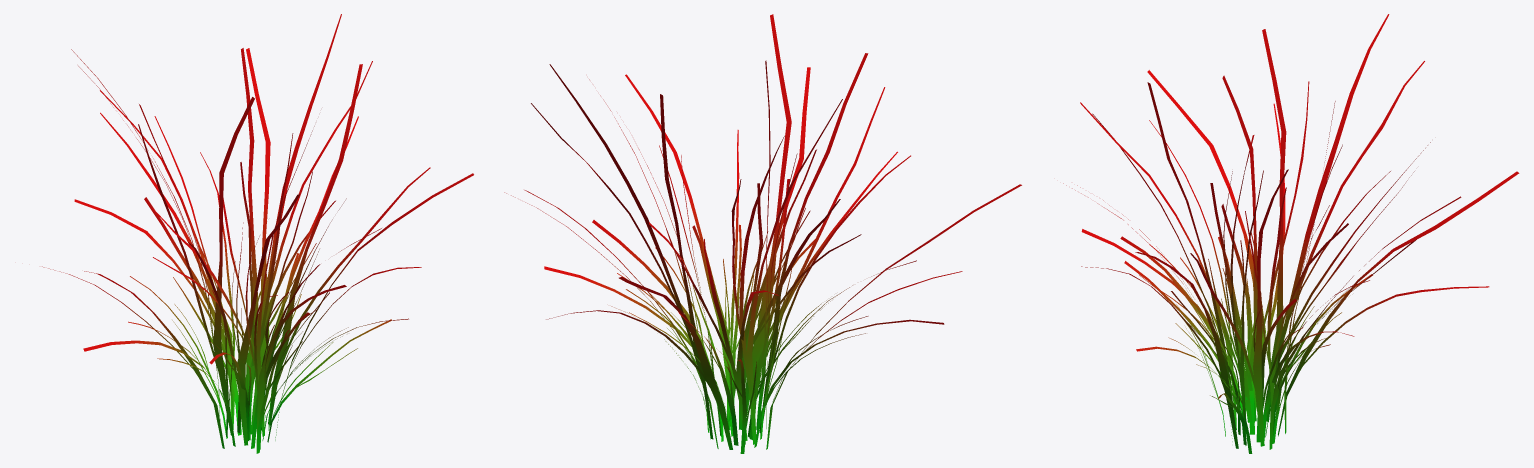
The model's file is Rough Meadow Grass_LOD1_Var4_skFjJ.fbx.
3 renders of one model, left to right at view 1: azimuth 30°, elevation 25°; view 2: azimuth 150°, elevation 25°; view 3: azimuth 270°, elevation 25°, orthographic. The views are drawn at different scales.
Parts seen in each view (by area): view 1: _b215_Var4_LOD1; view 2: _b215_Var4_LOD1; view 3: _b215_Var4_LOD1.
Part boxes in pixels (x1,y1,x2,y2): _b215_Var4_LOD1: [42, 14, 473, 453]; _b215_Var4_LOD1: [504, 14, 1021, 453]; _b215_Var4_LOD1: [1063, 14, 1519, 453].
Bounding box in the file's own units: 53.54 × 48.93 × 55.03.
